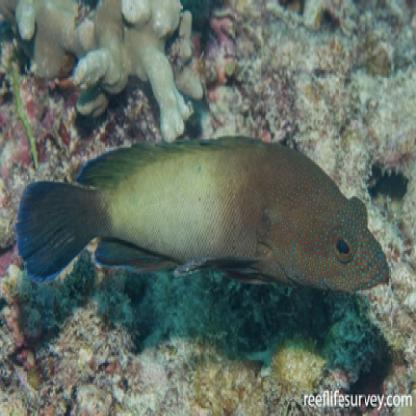Serranidae -Groupers-: (15, 132, 391, 303)
